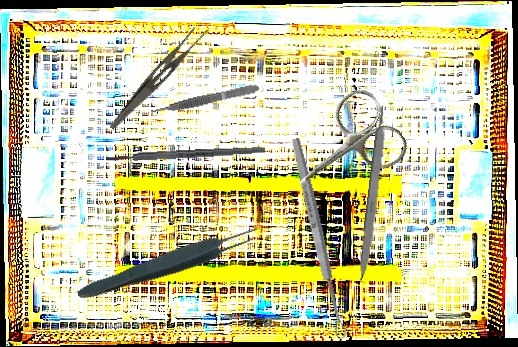Dressing Forceps: (108, 18, 211, 140)
Iris Scissors: (274, 82, 414, 217)
Scalpel Handle: (357, 102, 391, 284), (105, 145, 266, 164)
Surgical Spoon: (289, 137, 348, 340)
Tissue Forceps: (74, 220, 265, 307), (150, 82, 260, 117)
